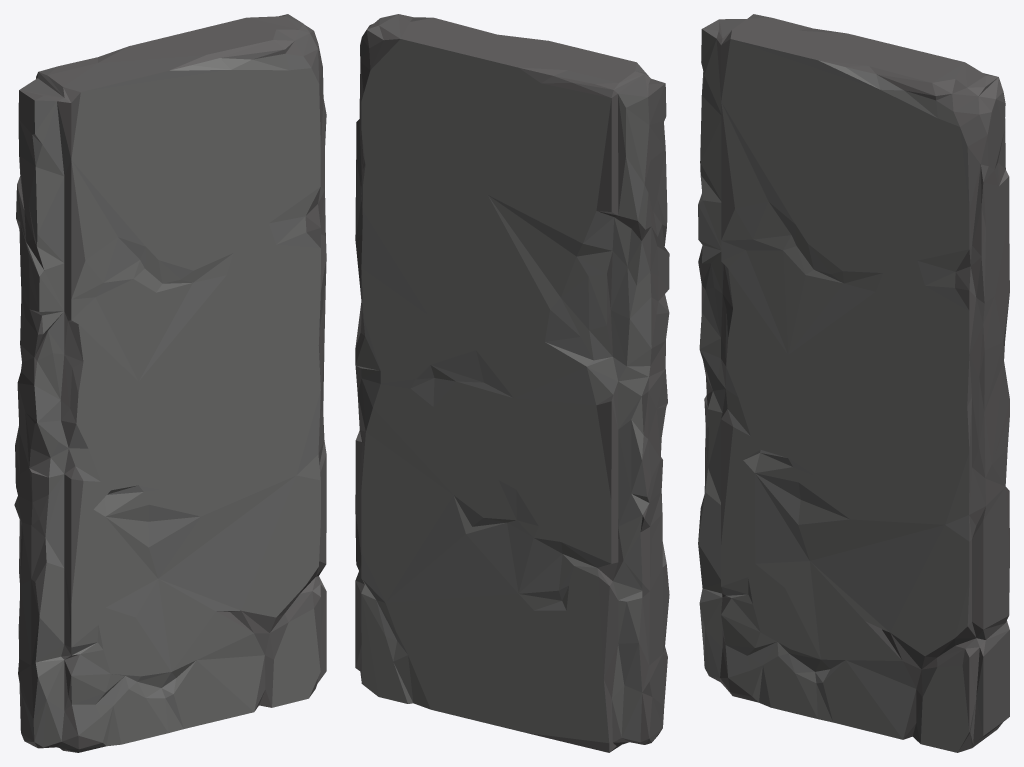
Rendered from SM_Env_Door_Large_Stone_02.FBX.
3 views of the same model, side by side, from view 1: azimuth 30°, elevation 25°; view 2: azimuth 150°, elevation 25°; view 3: azimuth 330°, elevation 25° (orthographic).
Visible parts, largest first — view 1: SM_Env_Door_Large_Stone_02; view 2: SM_Env_Door_Large_Stone_02; view 3: SM_Env_Door_Large_Stone_02.
Boxes of the visible parts, x1=… form: SM_Env_Door_Large_Stone_02: x1=14, y1=14, x2=326, y2=752; SM_Env_Door_Large_Stone_02: x1=355, y1=14, x2=669, y2=752; SM_Env_Door_Large_Stone_02: x1=698, y1=14, x2=1009, y2=752.
Size of what is drawn, in the model's own units: 205 by 43.32 by 452.
